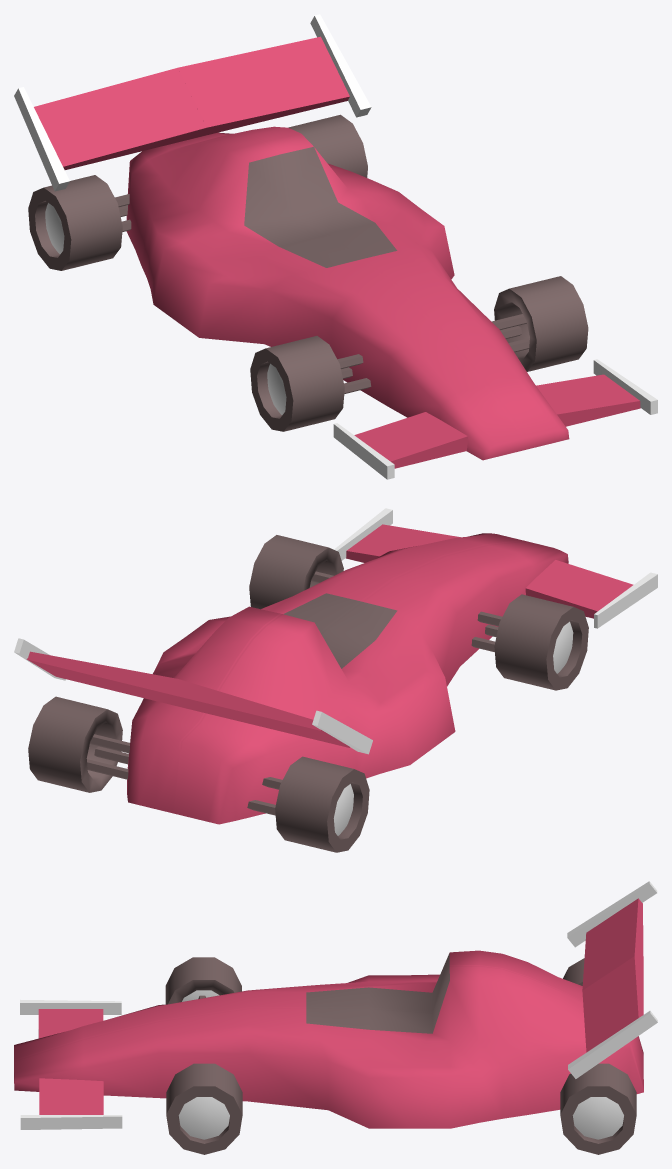
3 renders of one model, top to bottom at view 1: azimuth 30°, elevation 25°; view 2: azimuth 150°, elevation 25°; view 3: azimuth 270°, elevation 25°, orthographic. The views are drawn at different scales.
Visible parts, largest first — view 1: Object_2, Object_4, Object_6, Object_3, Object_5; view 2: Object_2, Object_4, Object_6, Object_3, Object_5; view 3: Object_2, Object_4, Object_6, Object_5.
Boxes of the visible parts, x1,y1,x2,y2 form: Object_2: (34, 36, 640, 468); Object_4: (28, 114, 588, 431); Object_6: (14, 14, 657, 479); Object_3: (115, 194, 529, 393); Object_5: (45, 203, 286, 414); Object_2: (26, 524, 633, 824); Object_4: (28, 535, 588, 852); Object_6: (14, 508, 657, 754); Object_3: (87, 571, 501, 815); Object_5: (333, 621, 573, 835); Object_2: (14, 898, 643, 1128); Object_4: (165, 953, 636, 1154); Object_6: (20, 881, 657, 1129); Object_5: (178, 990, 623, 1139).
Size of the model in its own units: 749 by 366 by 1493.
